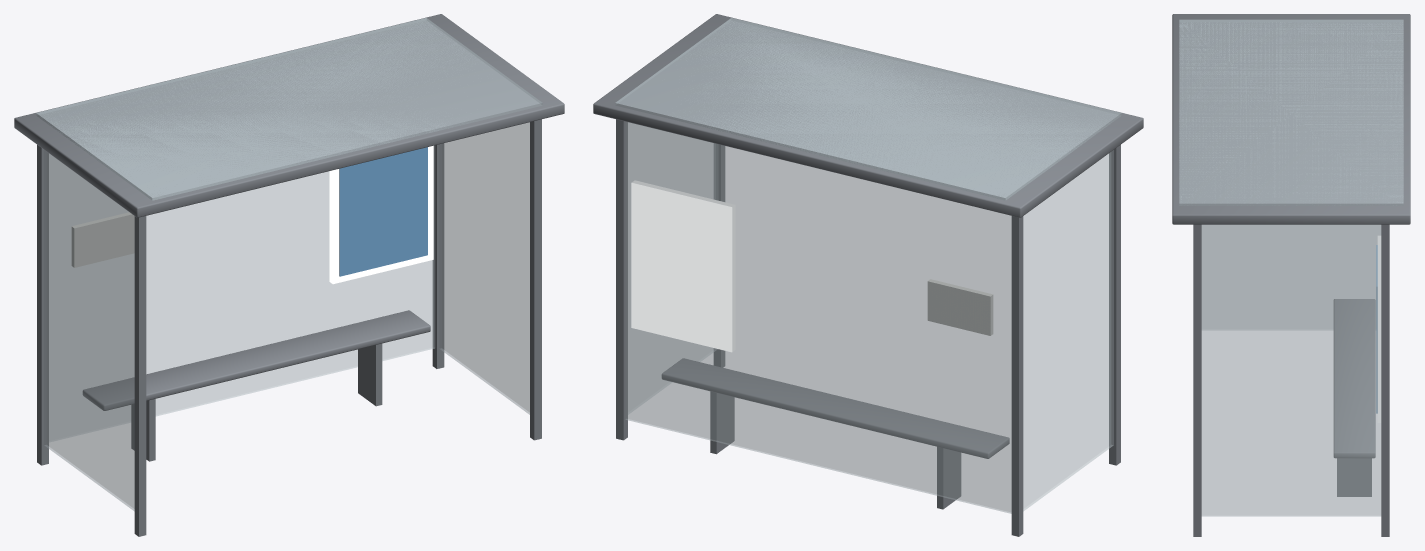
File: bus_shelter.glb
3 renders of one model, left to right at view 1: azimuth 30°, elevation 25°; view 2: azimuth 150°, elevation 25°; view 3: azimuth 270°, elevation 25°, orthographic. The views are drawn at different scales.
Visible parts, largest first — view 1: Cube.004, Cube.006, Cube.005, Cube.007, Cube.008, Cube.013, Cube.009, Cube, Cube.002, Cube.001, Cube.003, Cube.014 (+3 smaller); view 2: Cube.006, Cube.004, Cube.005, Cube.007, Cube.012, Cube.009, Cube.008, Cube.001, Cube.003, Cube, Cube.014, Cube.011 (+2 smaller); view 3: Cube.008, Cube.004, Cube.005, Cube.007, Cube.009, Cube.002, Cube.003, Cube.011, Cube.012, Cube.013.
Part boxes in pixels (x1,y1,x2,y2): Cube.004: (14,14,564,217); Cube.006: (49,145,434,441); Cube.005: (36,18,542,200); Cube.007: (44,150,134,511); Cube.008: (439,122,529,414); Cube.013: (339,147,427,276); Cube.009: (82,310,430,410); Cube: (134,216,146,536); Cube.002: (530,119,541,440); Cube.001: (37,145,48,465); Cube.003: (432,143,444,368); Cube.014: (71,212,134,267); Cube.006: (625,122,1011,513); Cube.004: (593,14,1143,217); Cube.005: (615,18,1121,200); Cube.007: (1023,150,1113,511); Cube.012: (631,180,735,352); Cube.009: (661,358,1009,458); Cube.008: (628,122,717,414); Cube.001: (1011,216,1023,536); Cube.003: (616,119,627,440); Cube: (1109,145,1120,465); Cube.014: (927,279,993,335); Cube.011: (710,391,734,454); Cube.008: (1201,224,1381,516); Cube.004: (1172,14,1410,224); Cube.005: (1179,19,1403,205); Cube.007: (1202,225,1380,330); Cube.009: (1333,299,1375,458); Cube.002: (1193,224,1201,536); Cube.003: (1381,224,1389,536); Cube.011: (1337,458,1371,496); Cube.012: (1377,235,1381,422); Cube.013: (1376,245,1377,413).
Size of the model in its own units: 3.4 by 2.6 by 1.7.
